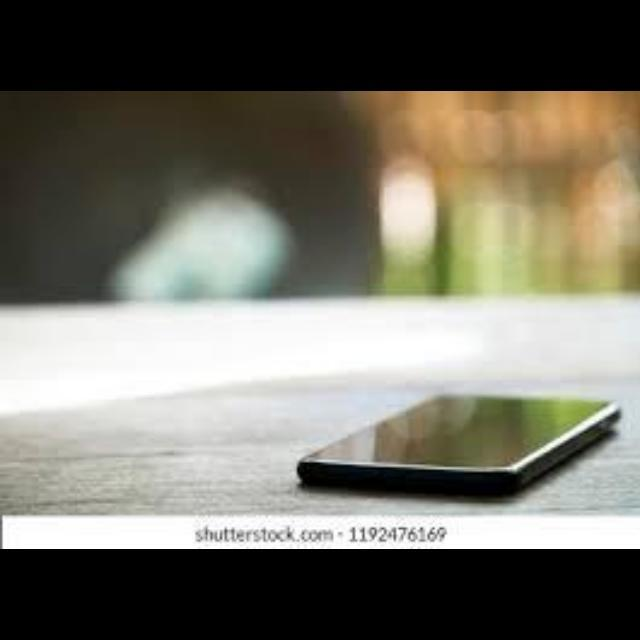Phone: (288, 386, 624, 486)
